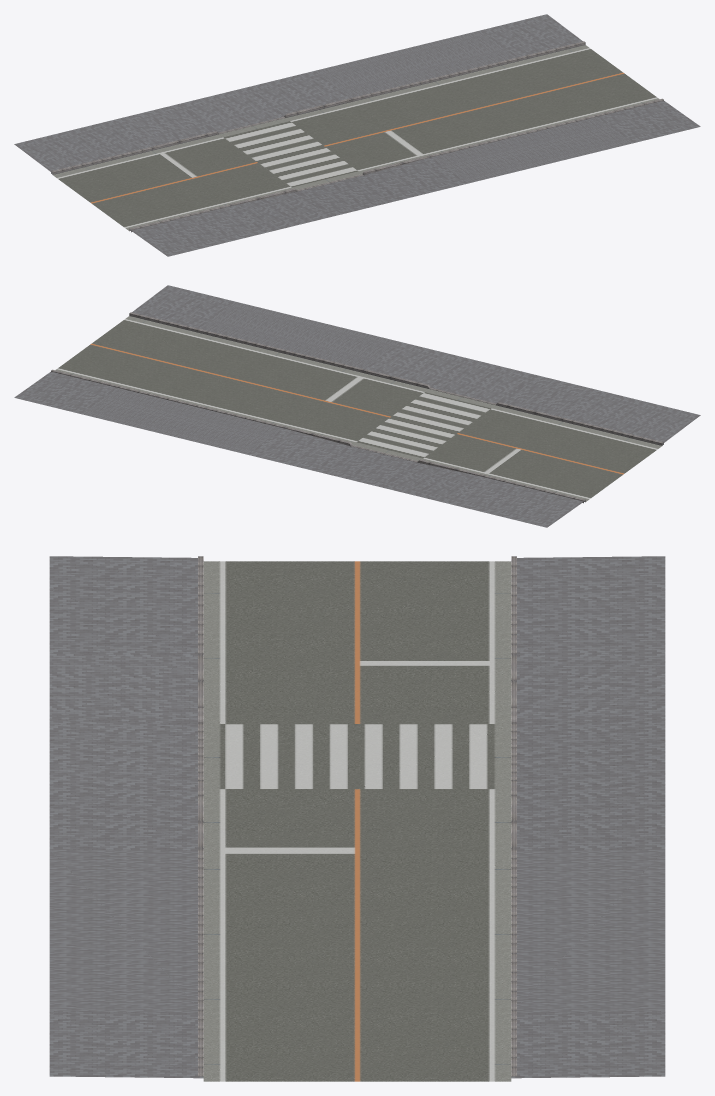
The model's file is Crosswalk.fbx.
The picture shows the model from 3 angles, top to bottom: view 1: azimuth 30°, elevation 25°; view 2: azimuth 150°, elevation 25°; view 3: azimuth 270°, elevation 25°; orthographic projection. The views are drawn at different scales.
Visible parts, largest first — view 1: Crosswalk_8x32m_orange; view 2: Crosswalk_8x32m_orange; view 3: Crosswalk_8x32m_orange.
Boxes of the visible parts, box(x1,y1,x2,y2) form: Crosswalk_8x32m_orange: box(14, 14, 700, 256); Crosswalk_8x32m_orange: box(14, 285, 700, 527); Crosswalk_8x32m_orange: box(49, 556, 665, 1081).
Size of the model in its own units: 32 by 0.15 by 16.
